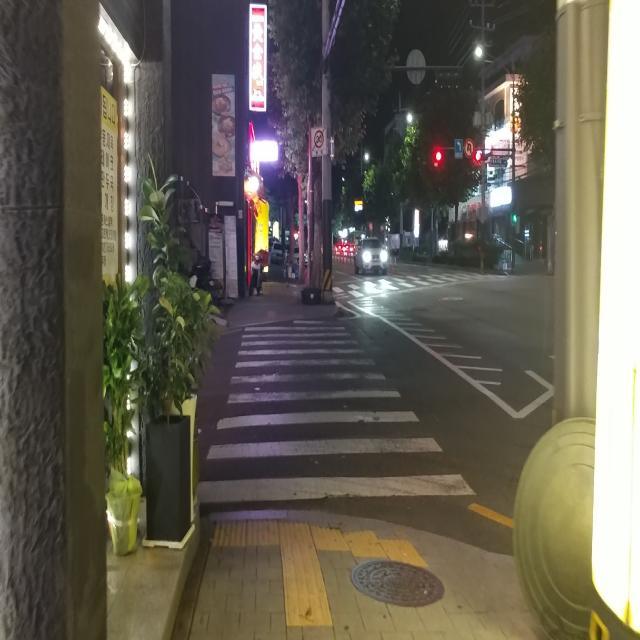횡단보도: (197, 317, 478, 519), (351, 274, 489, 291)
